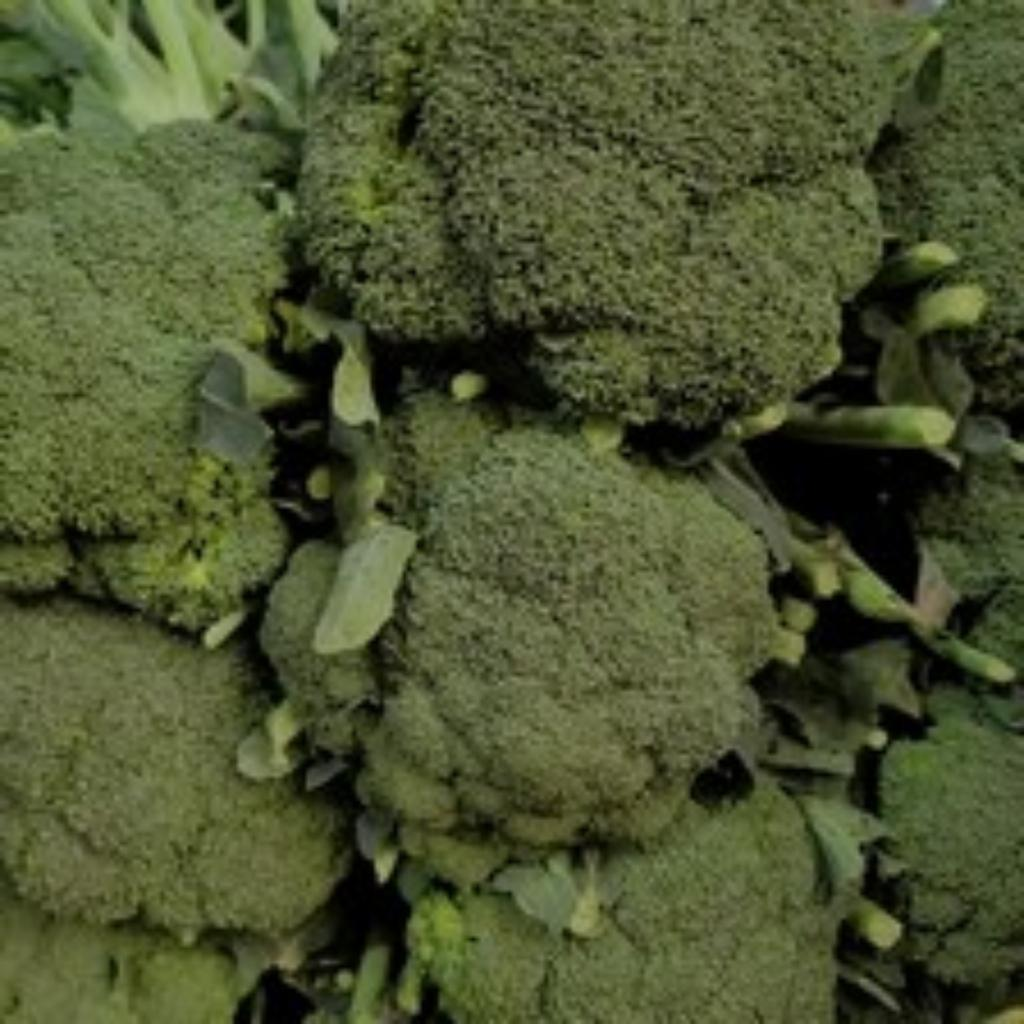Broccoli: (0, 0, 890, 1024), (0, 0, 890, 1024), (302, 0, 888, 427), (306, 0, 890, 427)
